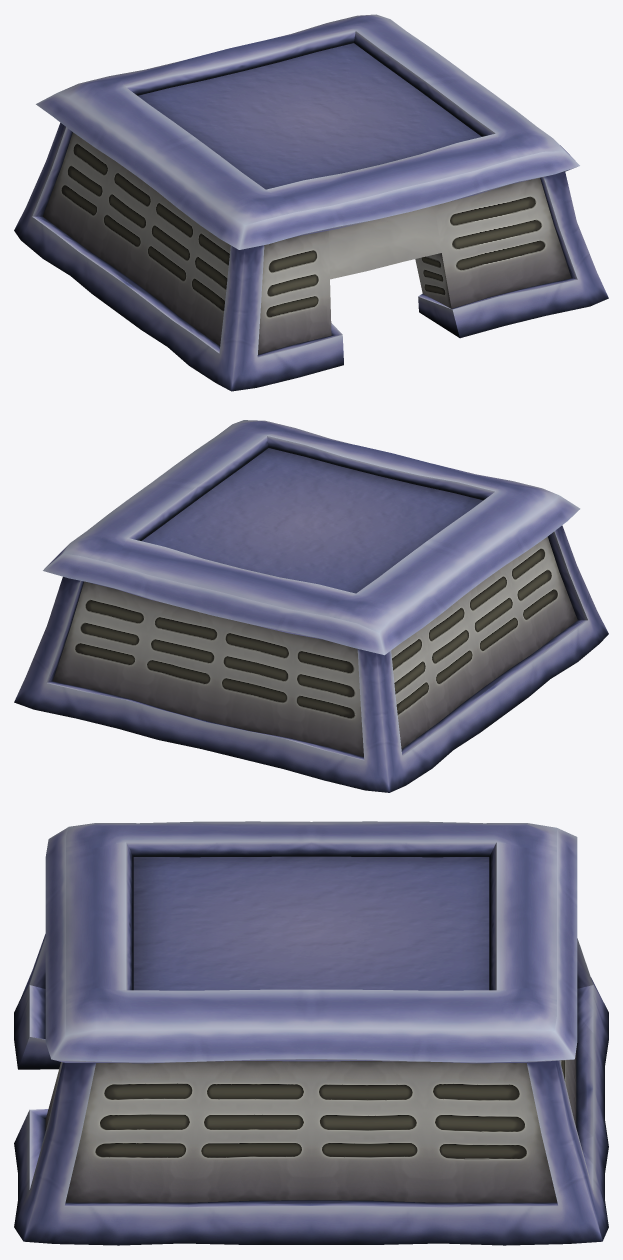
Rendered from dcs_lands_center.DAE.
3 renders of one model, top to bottom at view 1: azimuth 30°, elevation 25°; view 2: azimuth 150°, elevation 25°; view 3: azimuth 270°, elevation 25°, orthographic. The views are drawn at different scales.
Visible parts, largest first — view 1: Box01; view 2: Box01; view 3: Box01.
Part boxes in pixels (left/top/right/bottom): Box01: left=14, top=14, right=608, bottom=391; Box01: left=14, top=420, right=608, bottom=792; Box01: left=14, top=821, right=608, bottom=1245.
Size of the model in its own units: 55.67 by 21.37 by 55.74.
